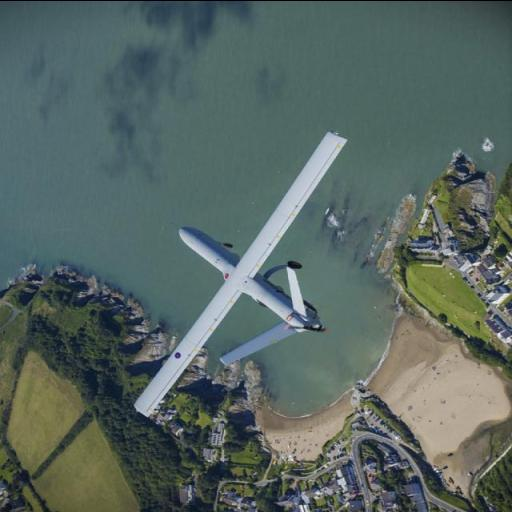uav: (127, 124, 379, 424)
